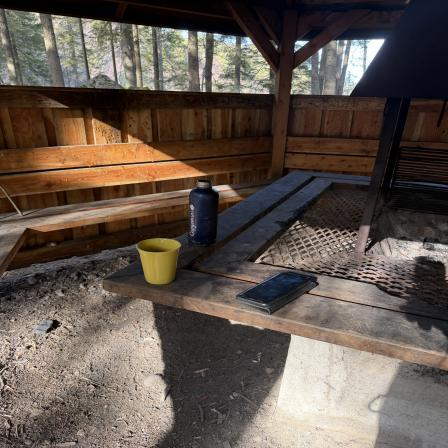blue_bottle: (190, 178, 220, 245)
phone: (238, 268, 318, 314)
yellow_cup: (137, 240, 181, 286)
